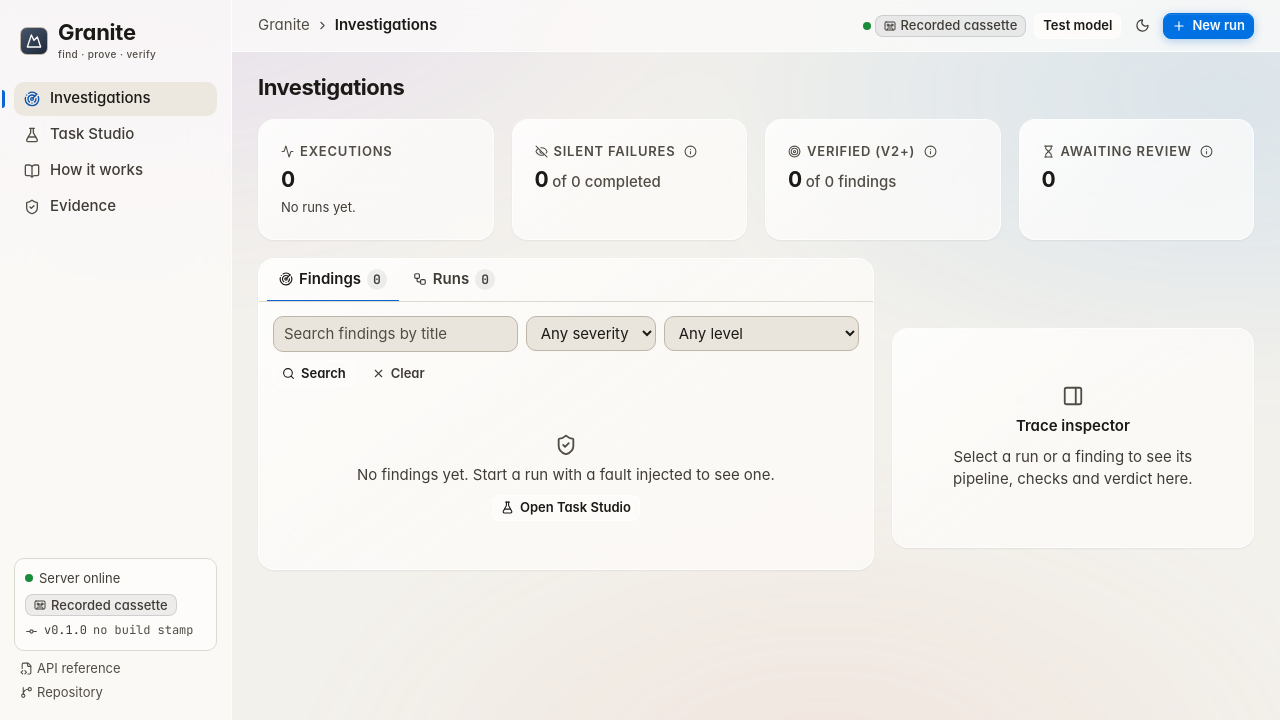
Test: application shell › switches between the light and dark themes and remembers the choice
Click the button named "Switch to dark theme".
click(1142, 26)  # box [1129, 12, 1155, 38]
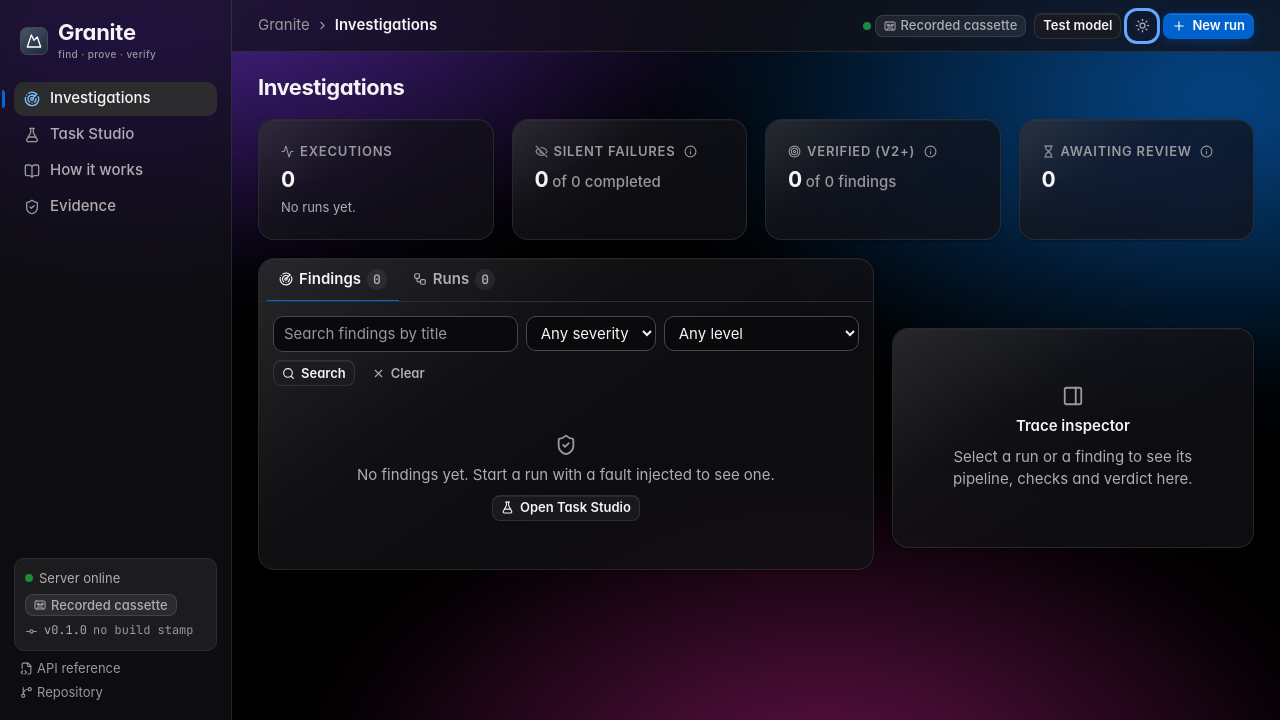
expect the button named "Switch to light theme" is shown: met, box [1129, 12, 1155, 38]
